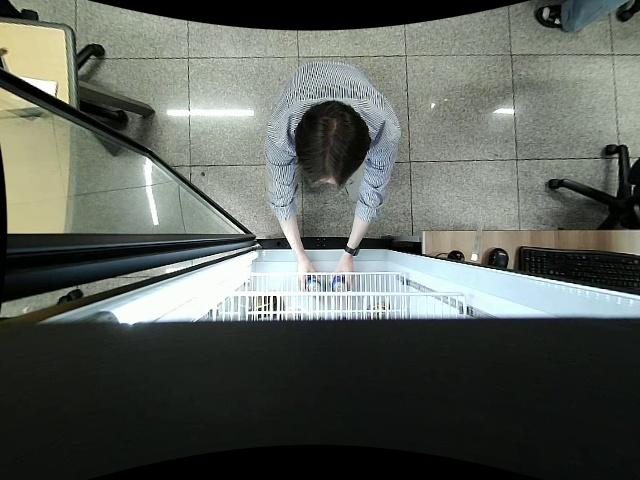00_hand: (328, 263, 359, 289), (296, 258, 319, 289)
